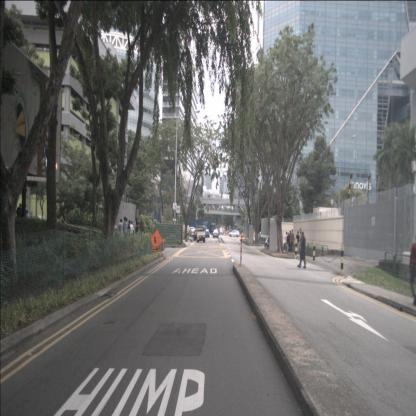cone: (224, 232, 226, 236)
